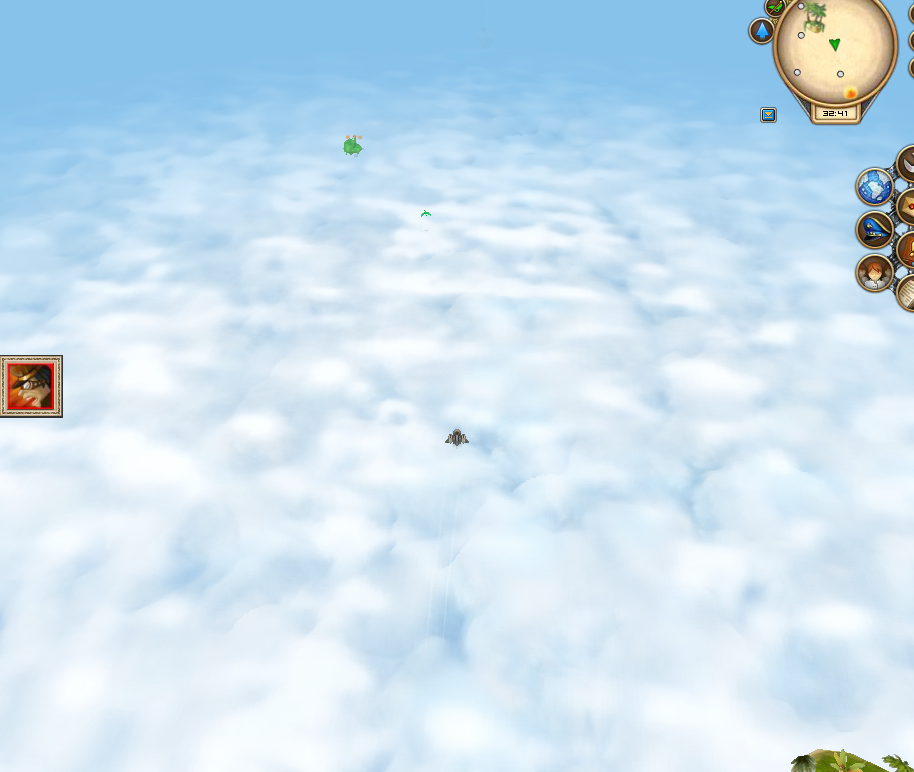dandelion-full: (338, 127, 368, 159)
